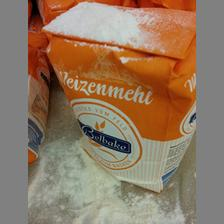Mehl: (42, 0, 194, 191)
